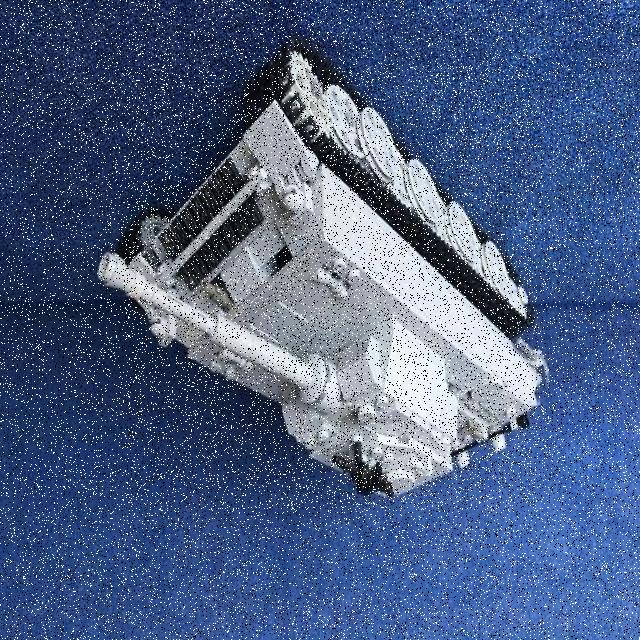MIL_MBT: (126, 68, 538, 508)
